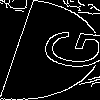G: (24, 25, 100, 72)
